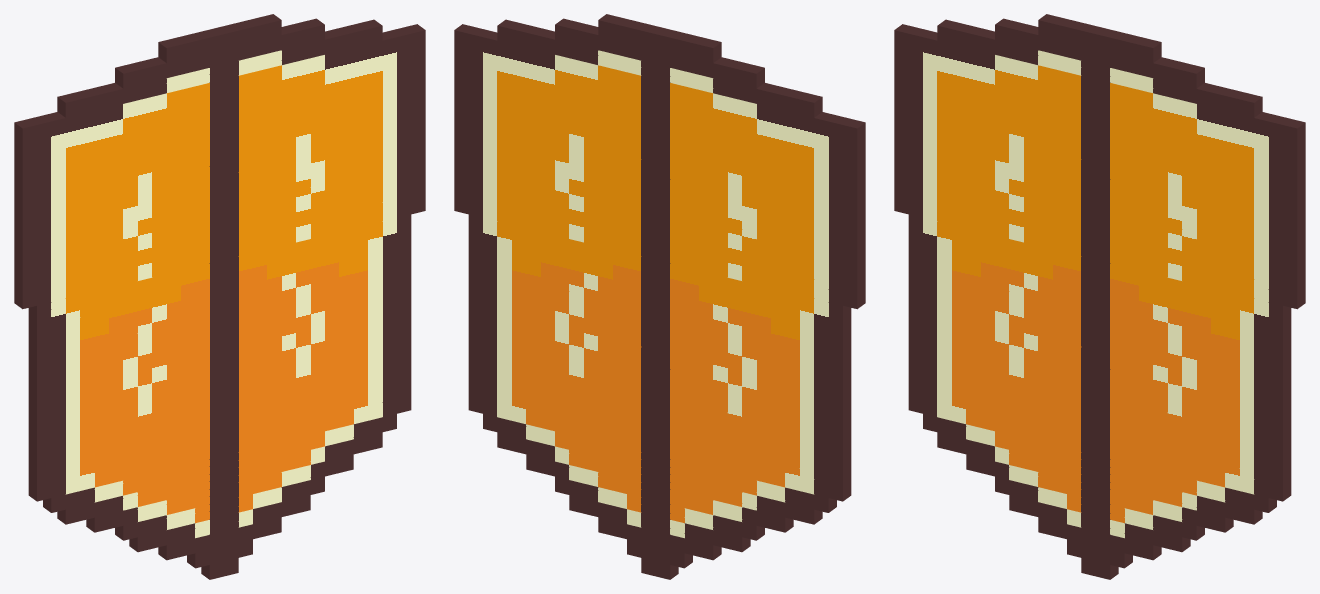
The model's file is 炽阳锚点.gltf.
3 renders of one model, left to right at view 1: azimuth 30°, elevation 25°; view 2: azimuth 150°, elevation 25°; view 3: azimuth 330°, elevation 25°, orthographic.
Visible parts, largest first — view 1: Group; view 2: Group; view 3: Group.
Boxes of the visible parts, x1,y1,x2,y2 form: Group: (14,14,425,579); Group: (454,14,865,579); Group: (894,14,1305,579).
Size of the model in its own units: 28 by 36 by 1.
Materials: 1 (1 with a texture image).
